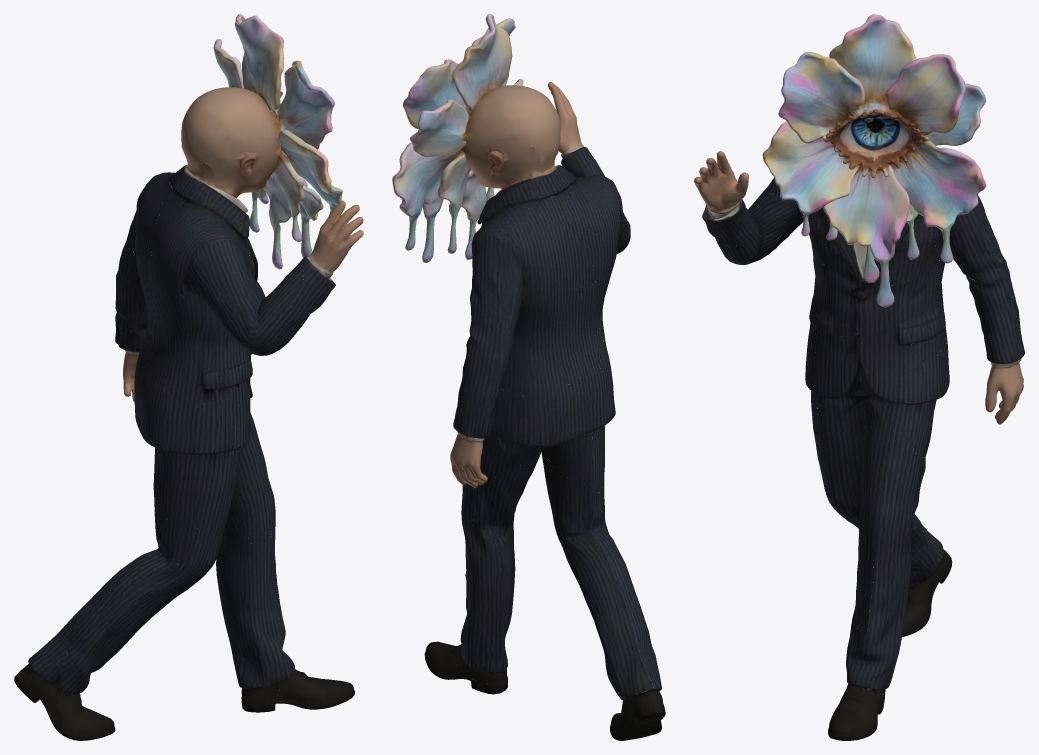
File: wiseguy.glb
The picture shows the model from 3 angles, left to right: view 1: azimuth 30°, elevation 25°; view 2: azimuth 150°, elevation 25°; view 3: azimuth 270°, elevation 25°; orthographic projection. The views are drawn at different scales.
Parts seen in each view (by area): view 1: tripo_node_096ba9d0-4f72-4ce4-bbae-e90f7e3d7e71; view 2: tripo_node_096ba9d0-4f72-4ce4-bbae-e90f7e3d7e71; view 3: tripo_node_096ba9d0-4f72-4ce4-bbae-e90f7e3d7e71.
Boxes of the visible parts, x1,y1,x2,y2 form: tripo_node_096ba9d0-4f72-4ce4-bbae-e90f7e3d7e71: [14, 14, 363, 740]; tripo_node_096ba9d0-4f72-4ce4-bbae-e90f7e3d7e71: [392, 14, 665, 740]; tripo_node_096ba9d0-4f72-4ce4-bbae-e90f7e3d7e71: [694, 14, 1024, 740].
Bounding box in the file's own units: 0.4401 × 1 × 0.4324.
1 material, 1 textured.
